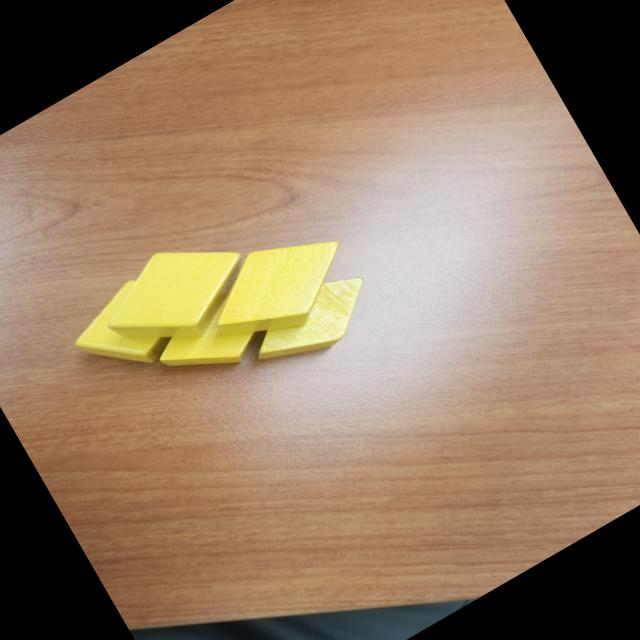yellow: (88, 214, 272, 376), (190, 208, 370, 366), (56, 255, 212, 394), (144, 274, 292, 399), (238, 262, 384, 383)
